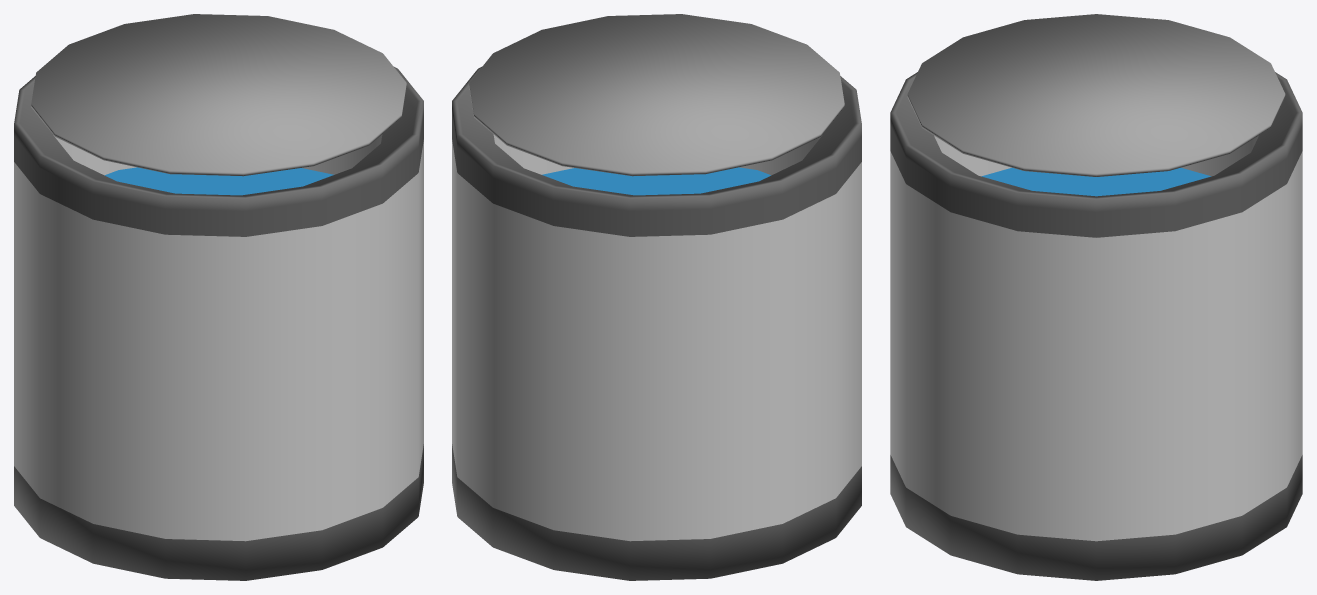
File: Paint_Bucket.fbx
3 renders of one model, left to right at view 1: azimuth 30°, elevation 25°; view 2: azimuth 150°, elevation 25°; view 3: azimuth 270°, elevation 25°, orthographic.
Visible parts, largest first — view 1: Paint_Can, Paint_Lid, Paint; view 2: Paint_Can, Paint_Lid, Paint; view 3: Paint_Can, Paint_Lid, Paint.
Part boxes in pixels (x1,y1,x2,y2): Paint_Can: [14, 67, 423, 580]; Paint_Lid: [31, 14, 406, 176]; Paint: [105, 167, 333, 195]; Paint_Can: [452, 67, 861, 580]; Paint_Lid: [469, 14, 844, 176]; Paint: [542, 167, 770, 195]; Paint_Can: [890, 72, 1302, 580]; Paint_Lid: [907, 14, 1285, 176]; Paint: [981, 167, 1211, 196].
Bounding box in the file's own units: 200 × 214 × 200.
